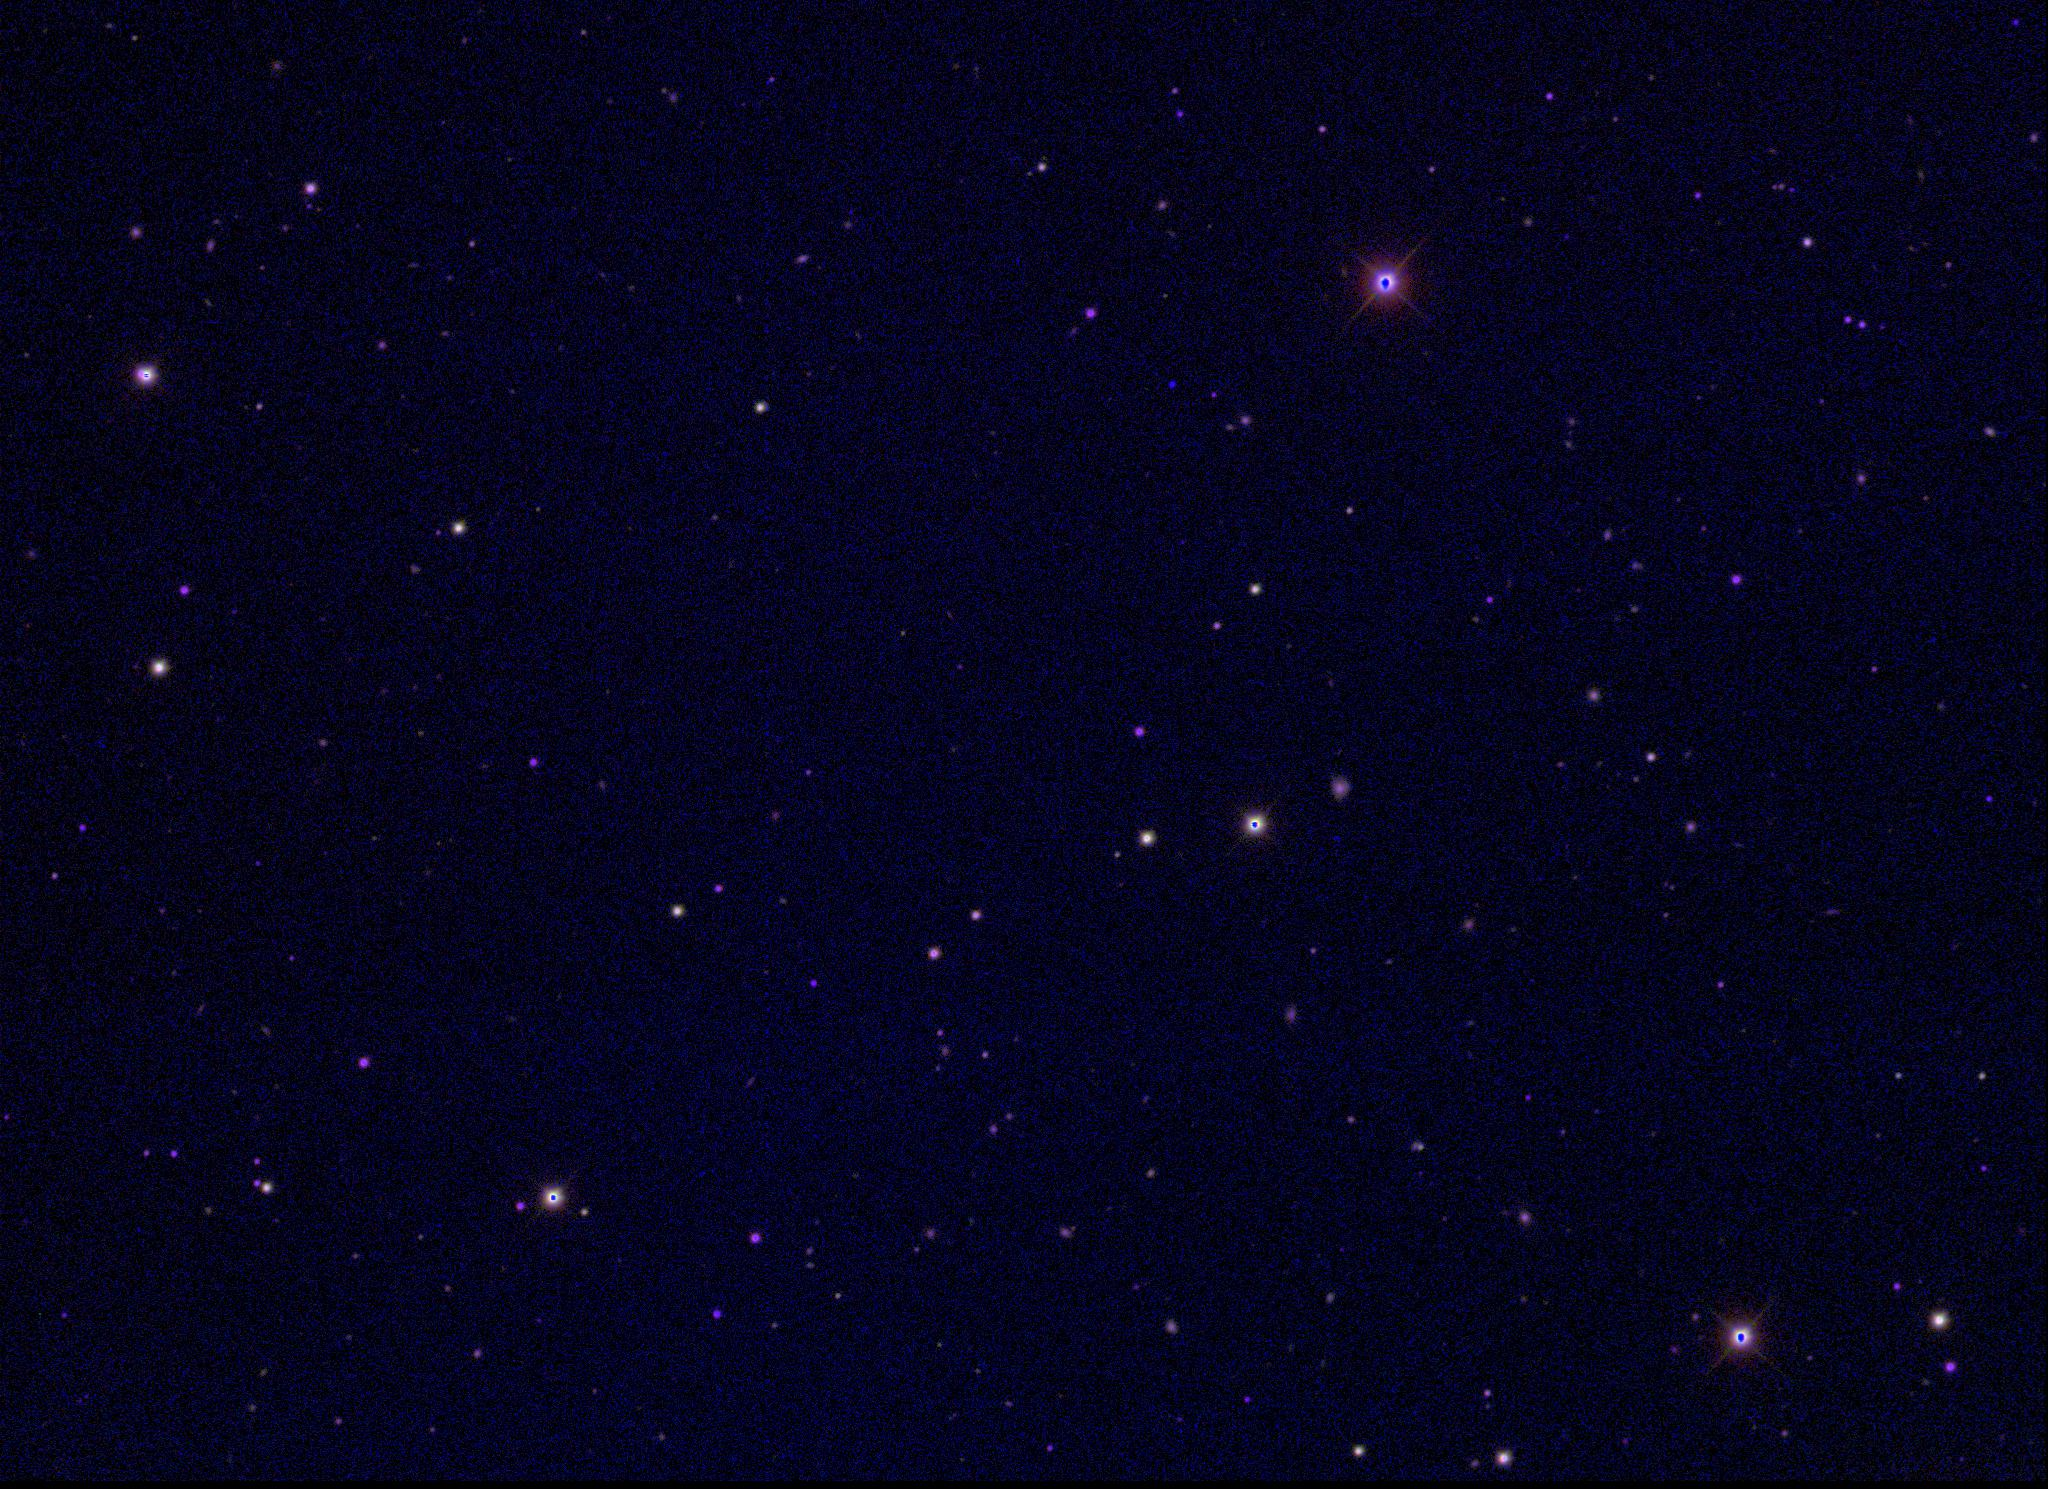L: (1167, 377, 1181, 391)
